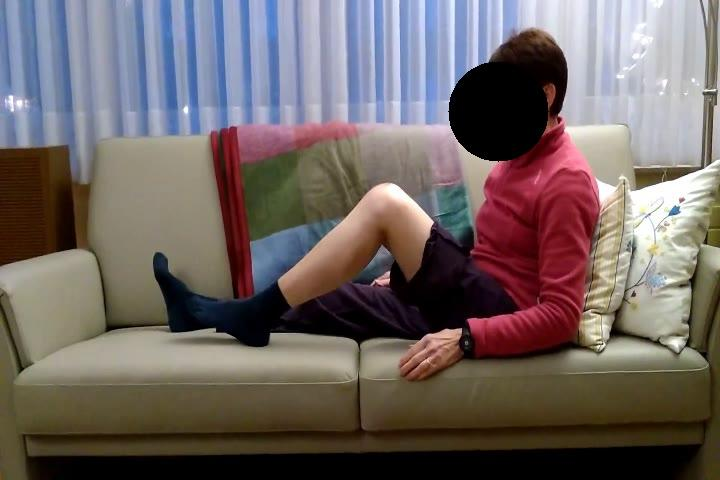lower_body: (149, 180, 515, 351)
